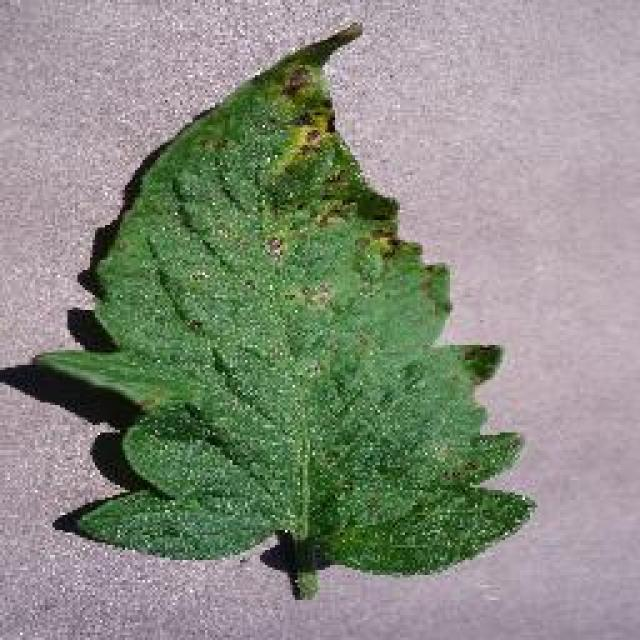Tomato Septoria spot leaf: (29, 15, 537, 577)
